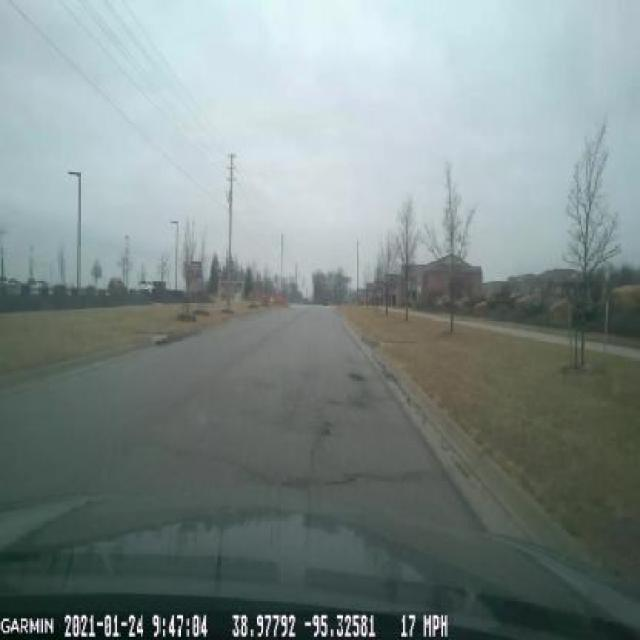Pothole: (346, 368, 366, 382)
